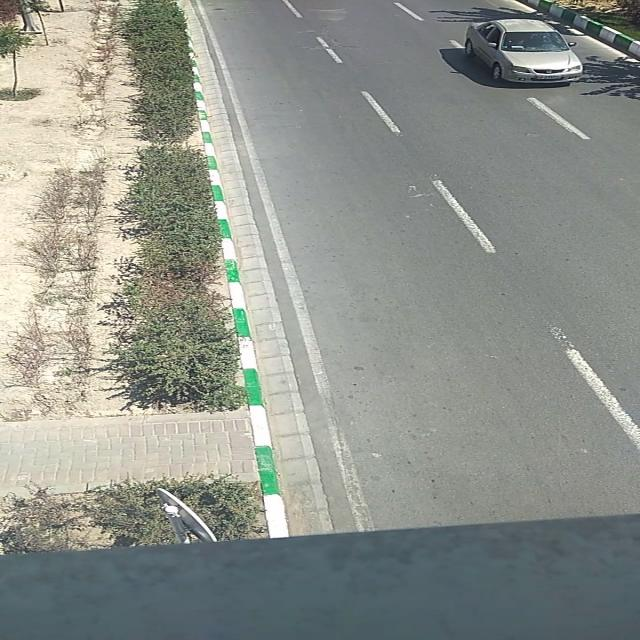car: (464, 18, 583, 86)
